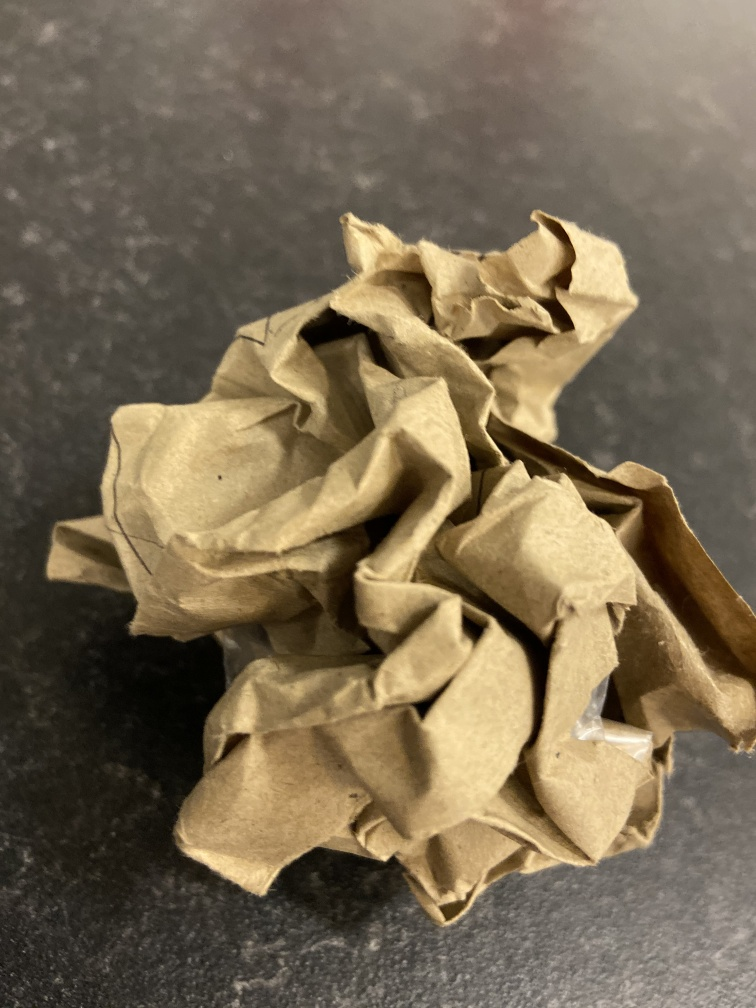paper_brown: (38, 198, 756, 930)
